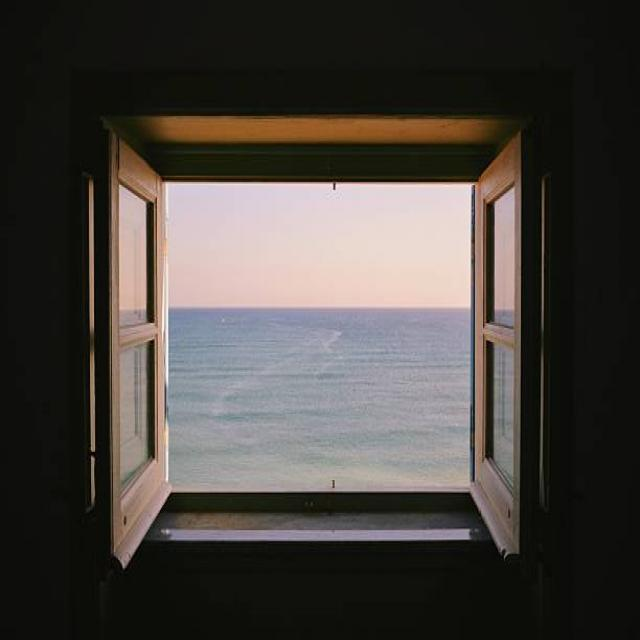Window: (77, 87, 551, 570)
